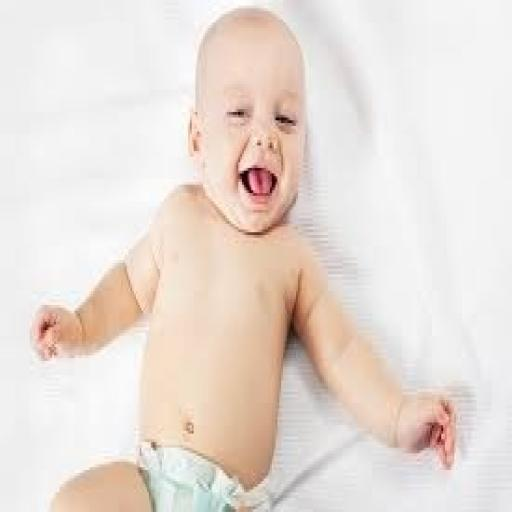laughing: (26, 3, 460, 509)
